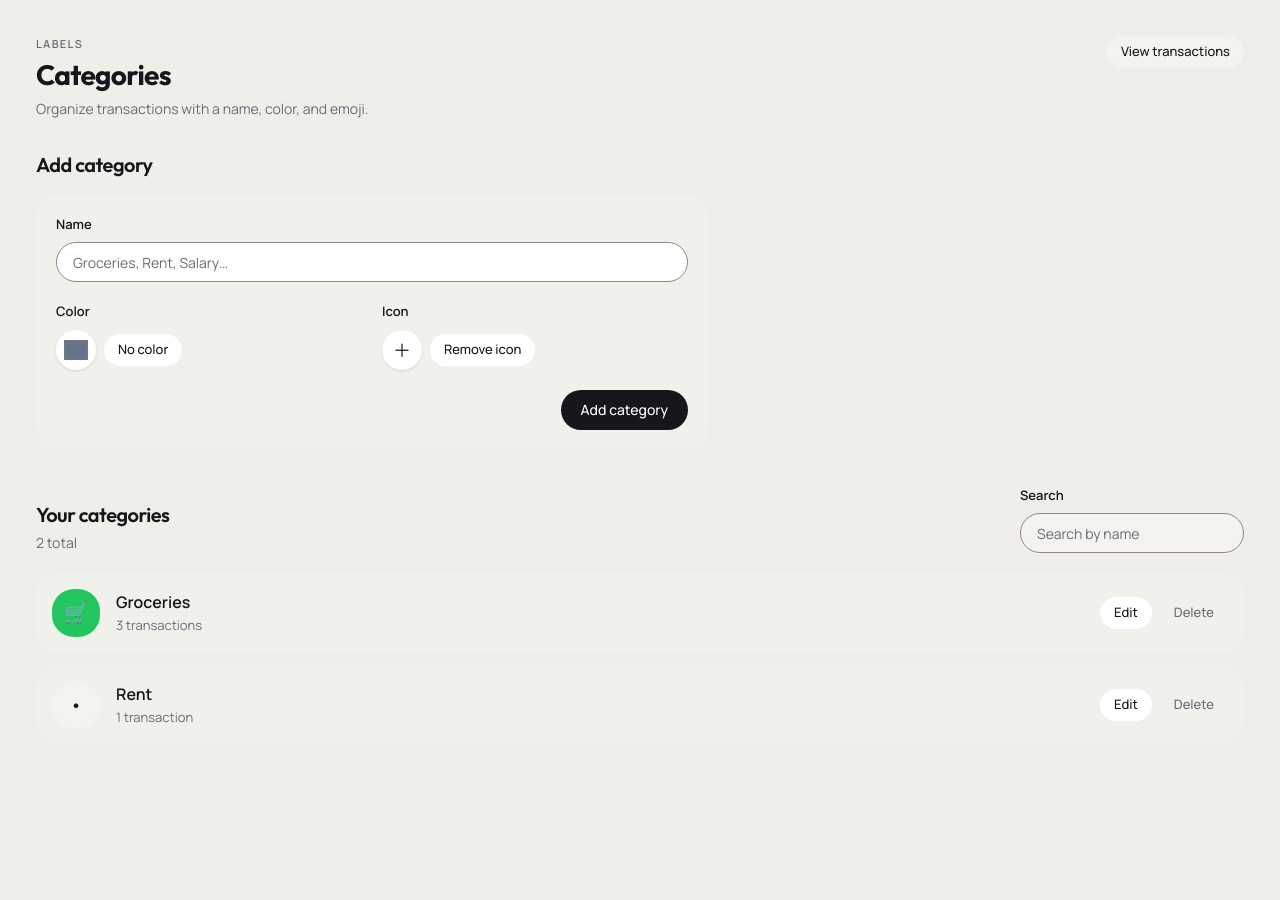
Test case: CategoriesPage › validation errors › associates the name error with the input rather than only rendering it
The width and height of the screenshot is (1280, 900).
Expected: the text "Groceries" is shown, [116,591,190,613]
Step 1. Click the button "Add category" → (624,410), box [560,390,688,430]
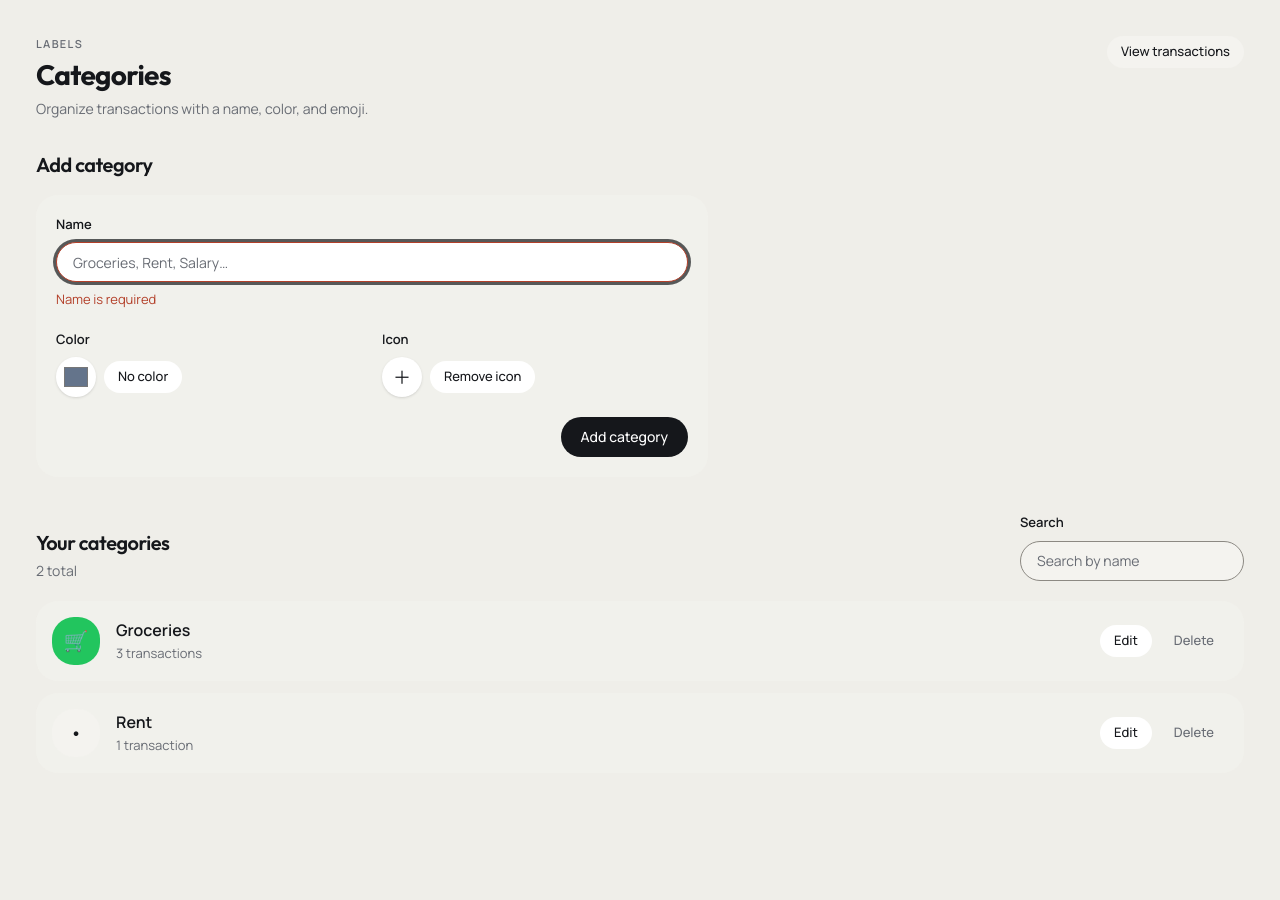
Result: the message reads "Name is required" at [56,290,156,308]
